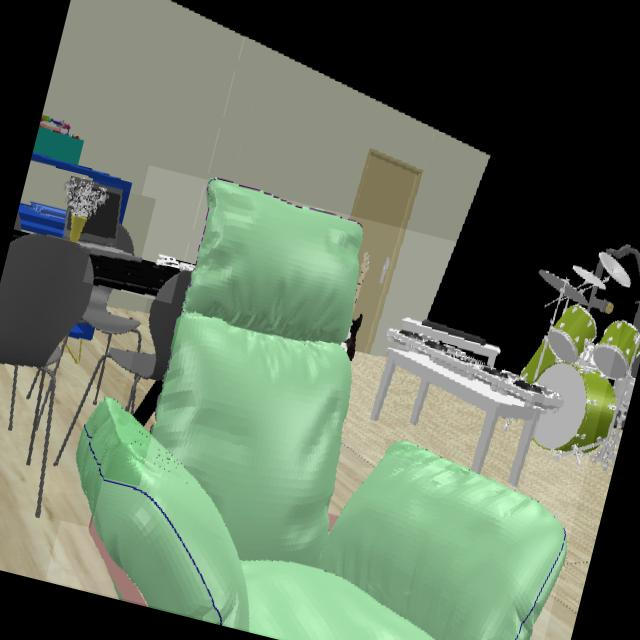chair: (0, 235, 138, 514), (56, 272, 190, 464)
laptop: (79, 188, 141, 262), (63, 208, 71, 238)
sofa: (76, 181, 566, 640)
table: (371, 350, 540, 486), (89, 256, 179, 297)
